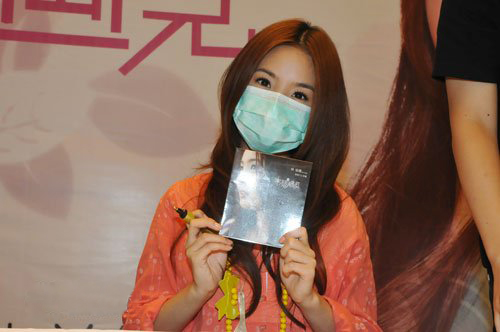face_mask: (231, 50, 311, 157)
